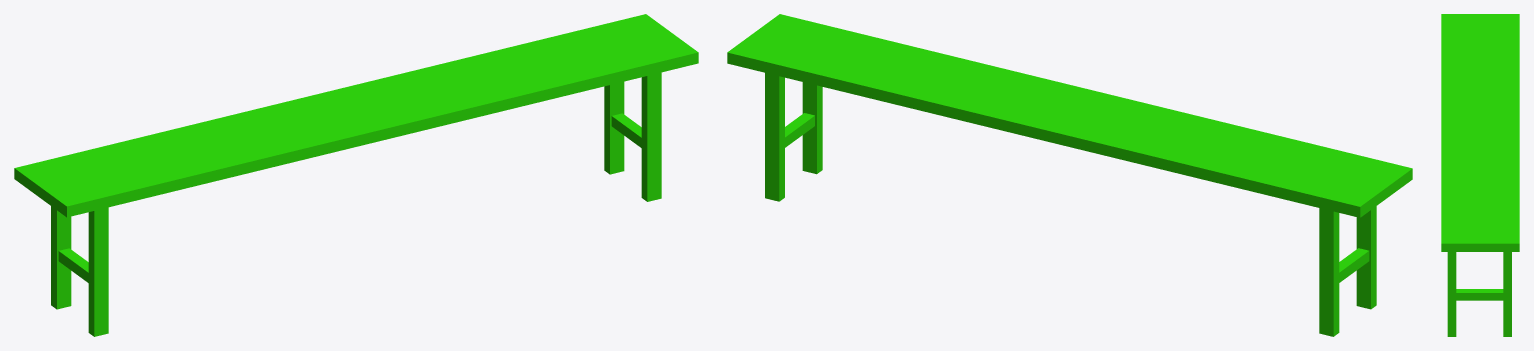
File: Bench_01_Lod0.fbx
3 views of the same model, side by side, from view 1: azimuth 30°, elevation 25°; view 2: azimuth 150°, elevation 25°; view 3: azimuth 270°, elevation 25° (orthographic). The views are drawn at different scales.
Parts seen in each view (by area): view 1: Bench_01_Lod0; view 2: Bench_01_Lod0; view 3: Bench_01_Lod0.
Part boxes in pixels (bbox=[...]): Bench_01_Lod0: bbox=[14, 14, 698, 336]; Bench_01_Lod0: bbox=[727, 14, 1412, 336]; Bench_01_Lod0: bbox=[1441, 14, 1519, 336].
Bounding box in the file's own units: 192 × 40.95 × 27.58.
